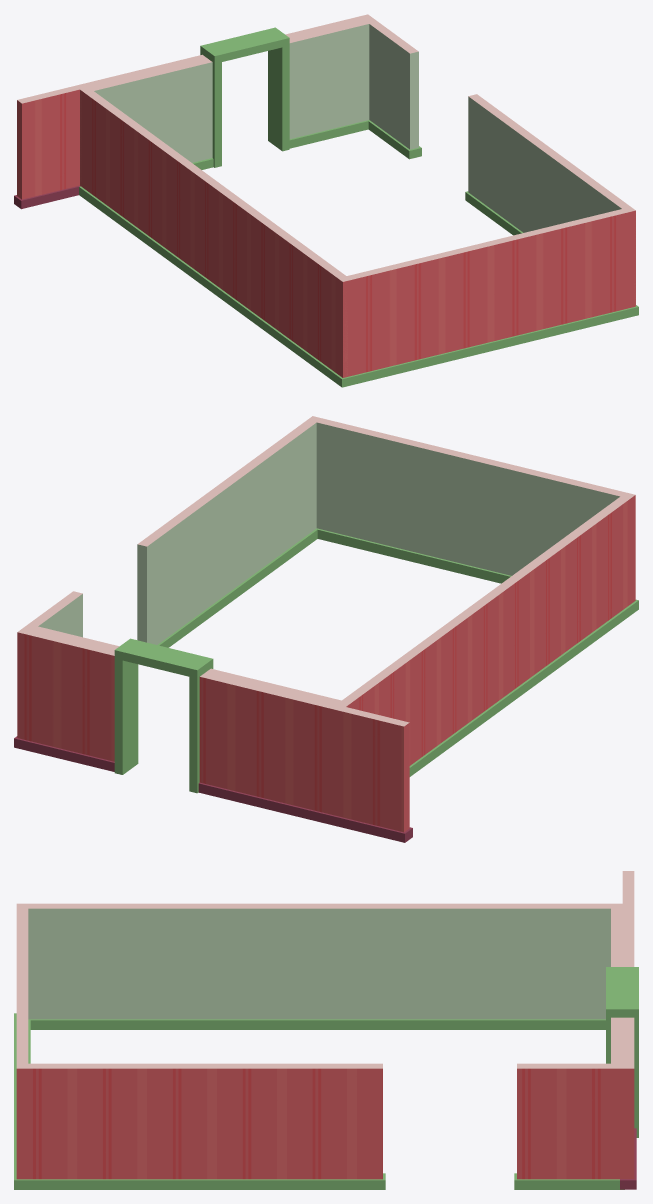
The model's file is Storage01_Wall_geo.fbx.
The picture shows the model from 3 angles, top to bottom: view 1: azimuth 30°, elevation 25°; view 2: azimuth 150°, elevation 25°; view 3: azimuth 270°, elevation 25°; orthographic projection. The views are drawn at different scales.
Visible parts, largest first — view 1: Storage01_Wall_geo, Map_bs_WallwStorage_geo; view 2: Storage01_Wall_geo, Map_bs_WallwStorage_geo; view 3: Storage01_Wall_geo, Map_bs_WallwStorage_geo.
Boxes of the visible parts, bbox=[...] form: Storage01_Wall_geo: bbox=[79, 18, 638, 387]; Map_bs_WallwStorage_geo: bbox=[14, 14, 372, 209]; Storage01_Wall_geo: bbox=[23, 416, 638, 776]; Map_bs_WallwStorage_geo: bbox=[14, 628, 412, 842]; Storage01_Wall_geo: bbox=[14, 903, 624, 1189]; Map_bs_WallwStorage_geo: bbox=[620, 871, 638, 1189].
Bounding box in the file's own units: 7.25 × 9.6 × 2.18.
